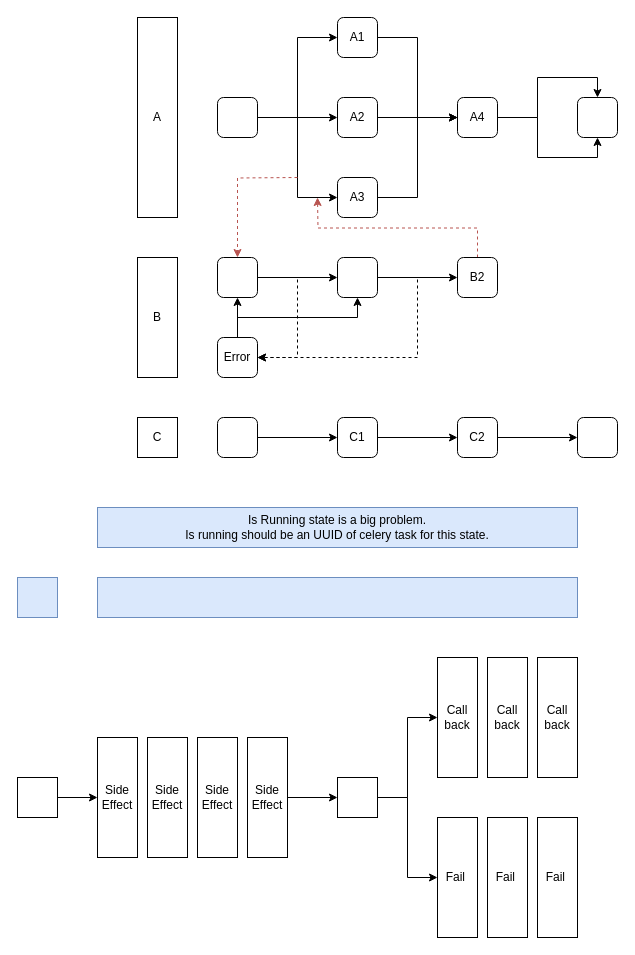
Image size: 635x955. Some labels were removed from this diagram. The shapes that lost their labels are listed below. From the top down, each one's centre as x and y in pixels, then its label:
point (237, 117): A0
point (597, 117): A5
point (237, 277): B0
point (357, 277): B1
point (237, 437): C0
point (597, 437): C3
point (37, 797): Lock State
point (357, 797): UnLock State
